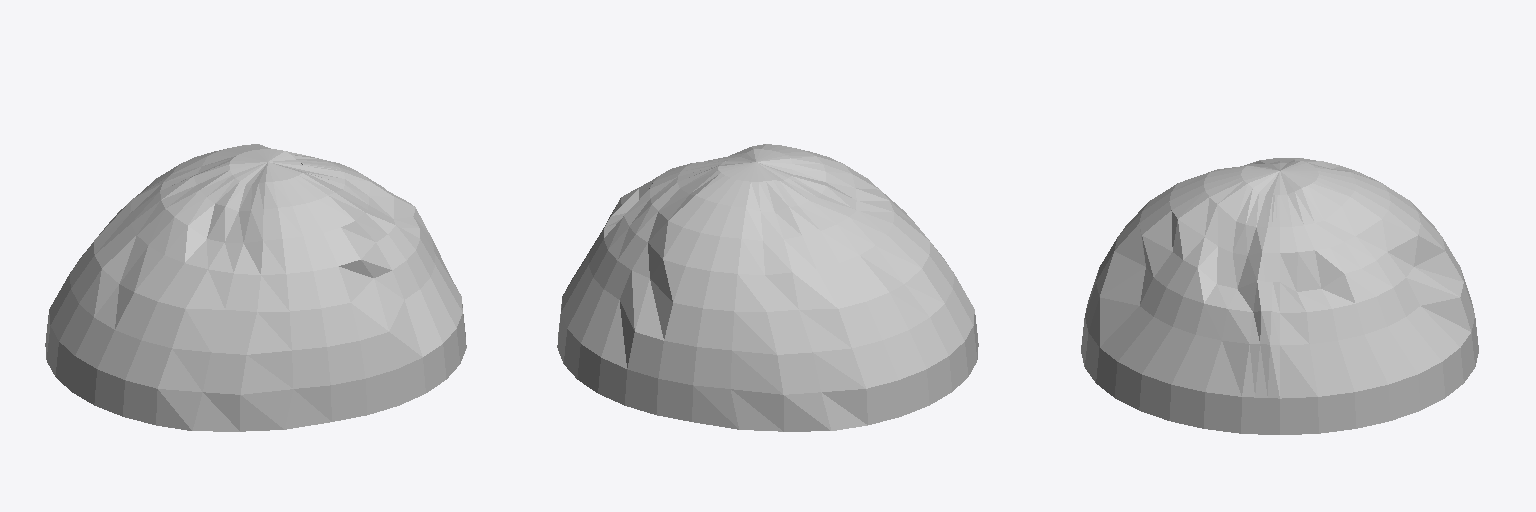
The model's file is colorFoolWater.obj.
3 views of the same model, side by side, from view 1: azimuth 30°, elevation 25°; view 2: azimuth 150°, elevation 25°; view 3: azimuth 270°, elevation 25° (orthographic).
Visible parts, largest first — view 1: Circle_Circle.002; view 2: Circle_Circle.002; view 3: Circle_Circle.002.
Part boxes in pixels (bbox=[...]): Circle_Circle.002: bbox=[45, 144, 466, 431]; Circle_Circle.002: bbox=[557, 144, 978, 431]; Circle_Circle.002: bbox=[1081, 158, 1478, 434].
Bounding box in the file's own units: 2.14 × 1.01 × 2.